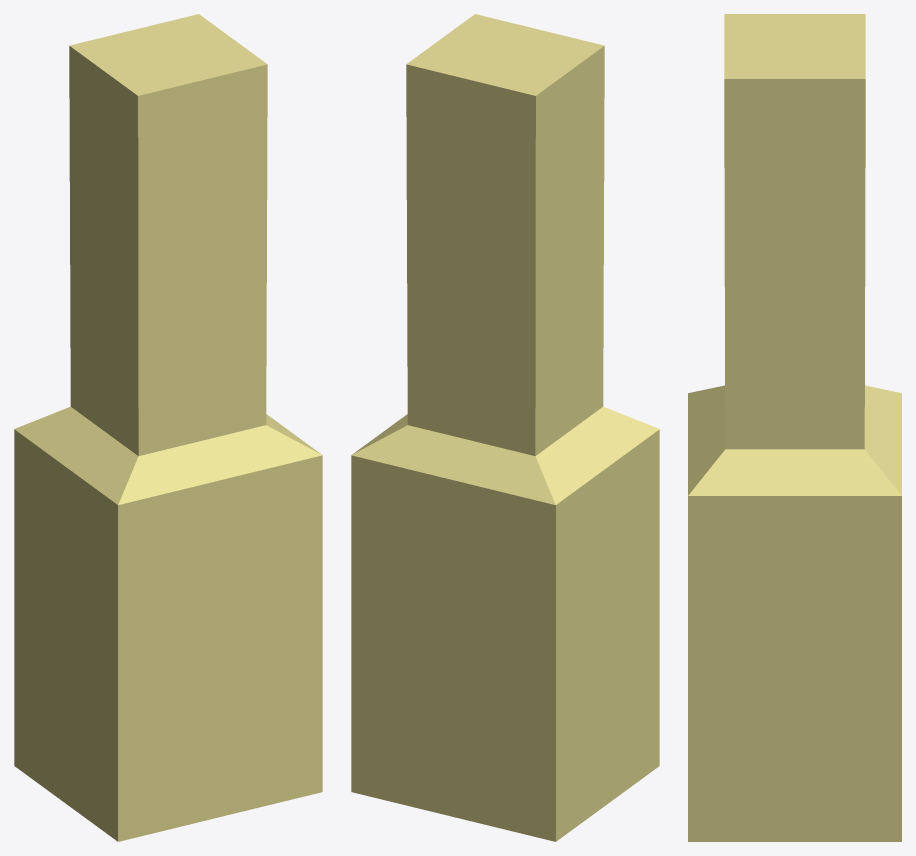
The model's file is pillar5.obj.
The picture shows the model from 3 angles, left to right: view 1: azimuth 30°, elevation 25°; view 2: azimuth 150°, elevation 25°; view 3: azimuth 270°, elevation 25°; orthographic projection. The views are drawn at different scales.
Parts seen in each view (by area): view 1: plilla0.001; view 2: plilla0.001; view 3: plilla0.001.
Boxes of the visible parts, <box> form: plilla0.001: <box>14,14,322,841</box>; plilla0.001: <box>351,14,659,841</box>; plilla0.001: <box>688,14,901,841</box>.
Bounding box in the file's own units: 1.31 × 4.42 × 1.15.
